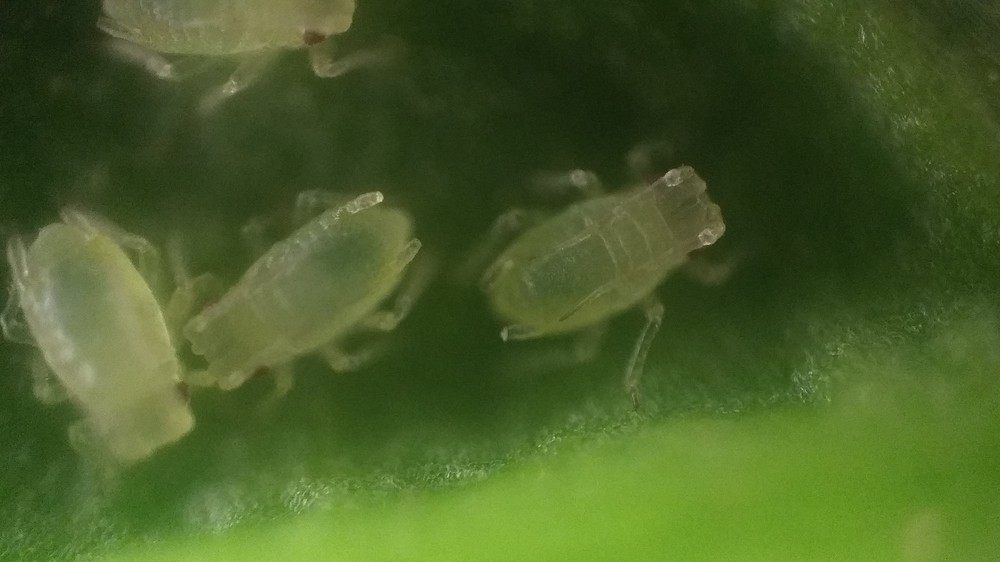Pulgon: (462, 121, 754, 392), (182, 182, 455, 413), (7, 206, 224, 494), (79, 1, 435, 109)
